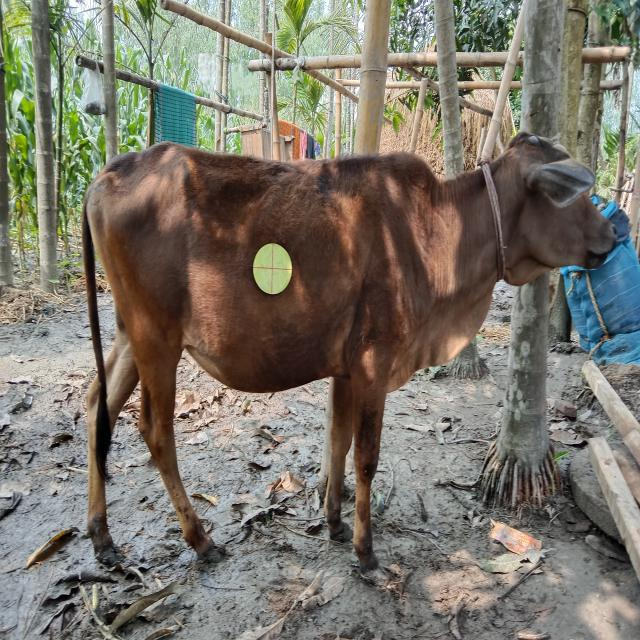badan_sapi: (91, 148, 431, 388)
sapi: (72, 124, 617, 591)
